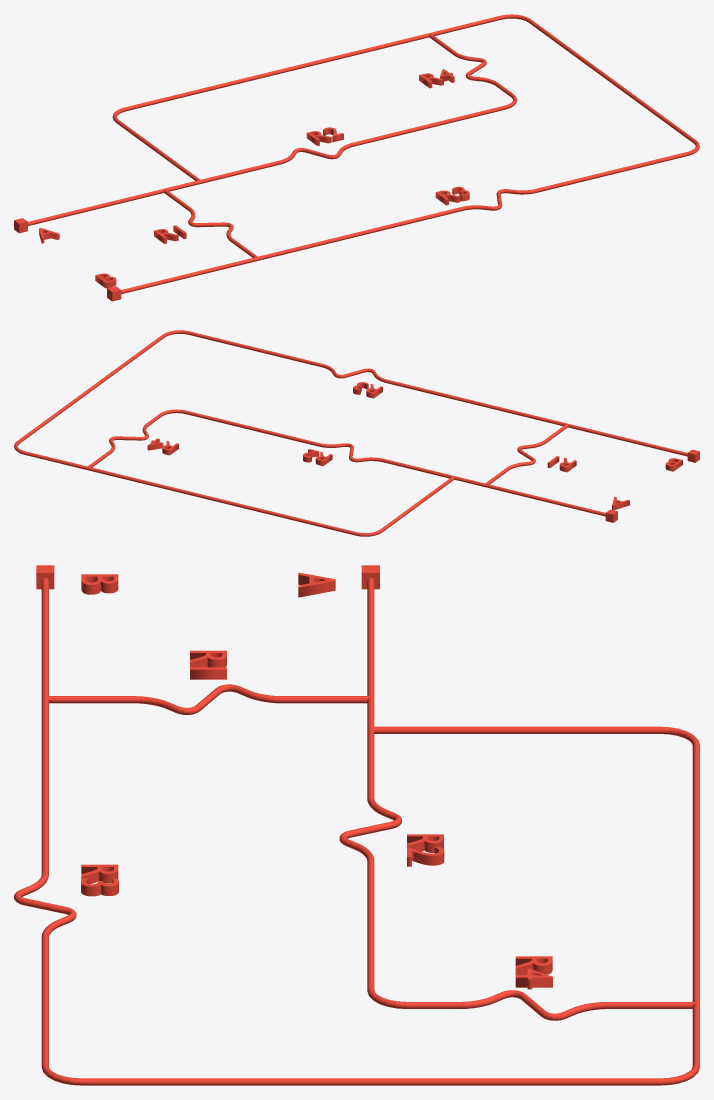
Rendered from Diagrama 4 rojo.glb.
The picture shows the model from 3 angles, top to bottom: view 1: azimuth 30°, elevation 25°; view 2: azimuth 150°, elevation 25°; view 3: azimuth 270°, elevation 25°; orthographic projection. The views are drawn at different scales.
Visible parts, largest first — view 1: Linea02, Linea, Linea03; view 2: Linea02, Linea, Linea03; view 3: Linea02, Linea, Linea03, Text.005, Text.004, Text.003, Text.002.
Boxes of the visible parts, box(x1,y1,x2,y2) form: Linea02: box(112, 14, 699, 293); Linea: box(28, 33, 517, 225); Linea03: box(163, 189, 257, 257); Linea02: box(14, 330, 687, 536); Linea: box(88, 409, 605, 516); Linea03: box(485, 424, 568, 484); Linea02: box(14, 578, 699, 1085); Linea: box(339, 578, 695, 1020); Linea03: box(45, 684, 370, 714); Text.005: box(515, 956, 552, 989); Text.004: box(81, 864, 118, 896); Text.003: box(407, 834, 444, 866); Text.002: box(190, 650, 226, 679).
Size of the model in its own units: 3.33 by 0.05 by 1.9.
